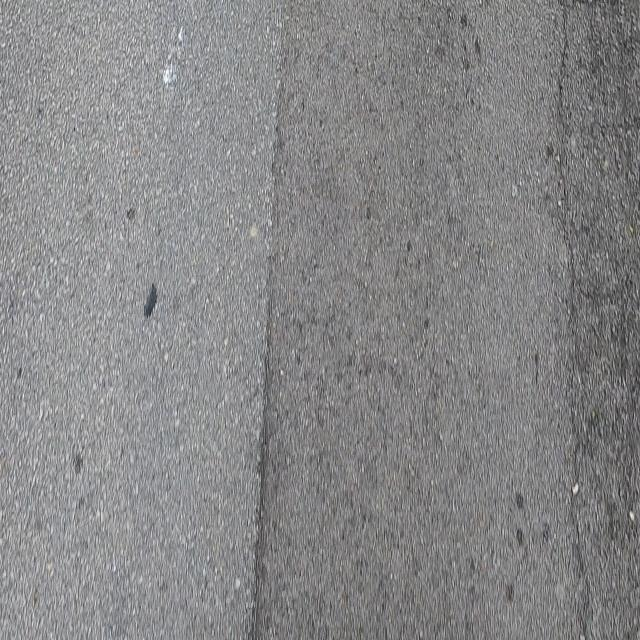Retak-Memanjang: (555, 5, 593, 640), (247, 295, 272, 640)
